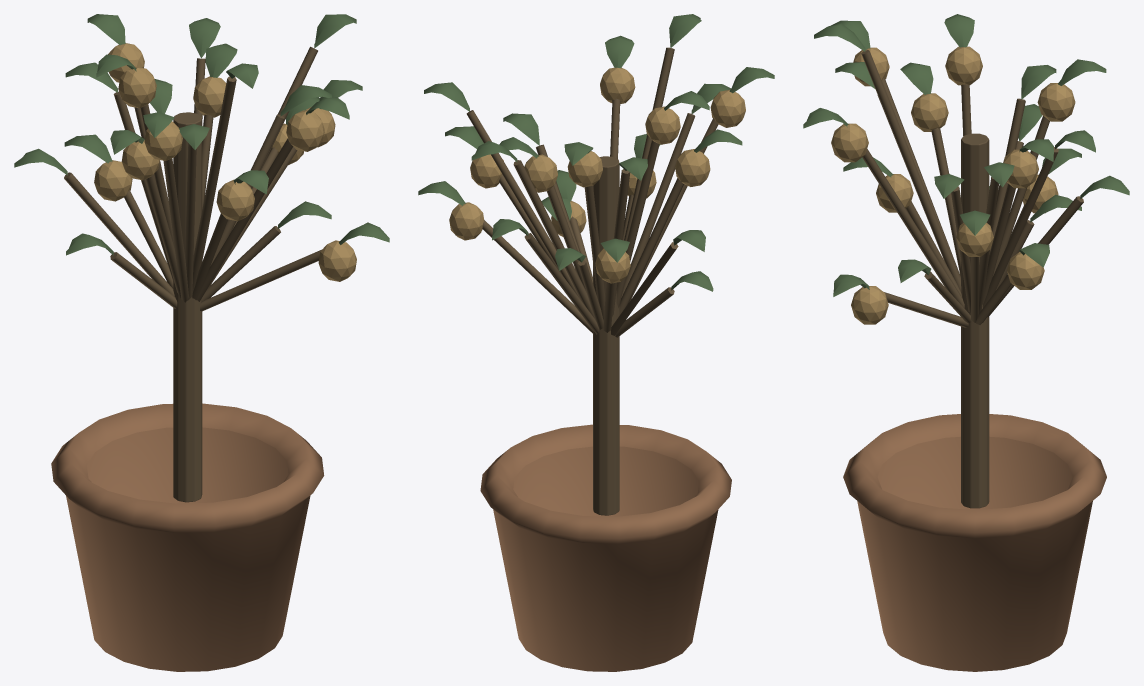
Rendered from season-lichun.glb.
The picture shows the model from 3 angles, left to right: view 1: azimuth 30°, elevation 25°; view 2: azimuth 150°, elevation 25°; view 3: azimuth 270°, elevation 25°; orthographic projection. The views are drawn at different scales.
Parts seen in each view (by area): view 1: Season_lichun__RT_ExportPalette_0.720_0.000; view 2: Season_lichun__RT_ExportPalette_0.720_0.000; view 3: Season_lichun__RT_ExportPalette_0.720_0.000.
Part boxes in pixels (x1=…): Season_lichun__RT_ExportPalette_0.720_0.000: x1=14, y1=14, x2=389, y2=671; Season_lichun__RT_ExportPalette_0.720_0.000: x1=418, y1=14, x2=774, y2=671; Season_lichun__RT_ExportPalette_0.720_0.000: x1=803, y1=14, x2=1129, y2=671.
Size of the model in its own units: 0.6258 by 1.15 by 0.5688.
